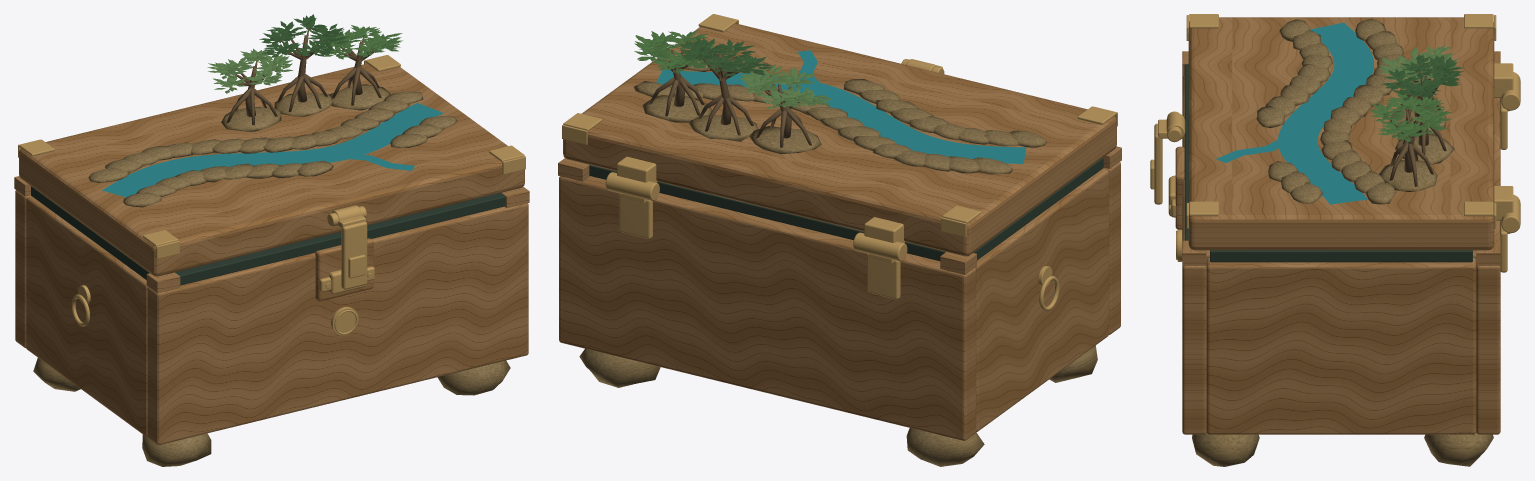
Rendered from gambia.glb.
3 renders of one model, left to right at view 1: azimuth 30°, elevation 25°; view 2: azimuth 150°, elevation 25°; view 3: azimuth 270°, elevation 25°, orthographic. The views are drawn at different scales.
Parts seen in each view (by area): view 1: Sediment / long wall, Lid / polished slab, Sediment / end wall, Estuary / main channel, Tidal seam / long, Mangrove / canopy 0, Mangrove / canopy 2, Sediment / long wall.001, Sediment foot, Sediment foot.002, Mangrove / canopy 1, Latch / lifting hasp (+9 smaller); view 2: Sediment / long wall.001, Lid / polished slab, Sediment / end wall, Estuary / main channel, Tidal seam / long.001, Mangrove / canopy 2, Sediment / long wall, Mangrove / canopy 0, Sediment foot.001, Sediment foot.003, Mangrove / canopy 1, Tidal seam / side (+12 smaller); view 3: Sediment / end wall.001, Lid / polished slab, Estuary / main channel, Sediment / long wall.001, Sediment / long wall, Tidal seam / side.001, Mangrove / canopy 1, Mangrove / canopy 0, Sediment foot.002, Sediment foot.003, Bank / mangrove island.001, Mangrove / canopy 2 (+33 smaller).
Part boxes in pixels (x1,y1,x2,y2): Sediment / long wall: [147, 203, 528, 444]; Lid / polished slab: [19, 63, 524, 276]; Sediment / end wall: [26, 196, 147, 436]; Estuary / main channel: [102, 103, 443, 197]; Tidal seam / long: [175, 193, 505, 285]; Mangrove / canopy 0: [259, 14, 348, 57]; Mangrove / canopy 2: [207, 48, 292, 93]; Sediment / long wall.001: [15, 190, 31, 347]; Sediment foot: [142, 433, 211, 466]; Sediment foot.002: [437, 360, 510, 395]; Mangrove / canopy 1: [314, 25, 402, 59]; Latch / lifting hasp: [341, 221, 367, 289]; Sediment / long wall.001: [559, 176, 975, 440]; Lid / polished slab: [563, 23, 1116, 256]; Sediment / end wall: [975, 168, 1108, 431]; Estuary / main channel: [656, 69, 1026, 163]; Tidal seam / long.001: [589, 165, 945, 261]; Mangrove / canopy 2: [738, 64, 831, 108]; Sediment / long wall: [1103, 162, 1120, 334]; Mangrove / canopy 0: [679, 37, 772, 76]; Sediment foot.001: [906, 428, 984, 466]; Sediment foot.003: [579, 348, 660, 387]; Mangrove / canopy 1: [634, 30, 717, 73]; Tidal seam / side: [973, 157, 1103, 260]; Sediment / end wall.001: [1206, 258, 1476, 434]; Lid / polished slab: [1188, 17, 1494, 250]; Estuary / main channel: [1278, 22, 1373, 204]; Sediment / long wall.001: [1476, 98, 1500, 434]; Sediment / long wall: [1182, 76, 1206, 434]; Tidal seam / side.001: [1210, 250, 1472, 262]; Mangrove / canopy 1: [1370, 93, 1451, 142]; Mangrove / canopy 0: [1380, 54, 1463, 100]; Sediment foot.002: [1192, 433, 1259, 466]; Sediment foot.003: [1424, 433, 1493, 466]; Bank / mangrove island.001: [1379, 160, 1437, 191]; Mangrove / canopy 2: [1377, 45, 1460, 84].
Size of the model in its own units: 3.79 by 3.02 by 2.88.
9 materials, 2 textured.
